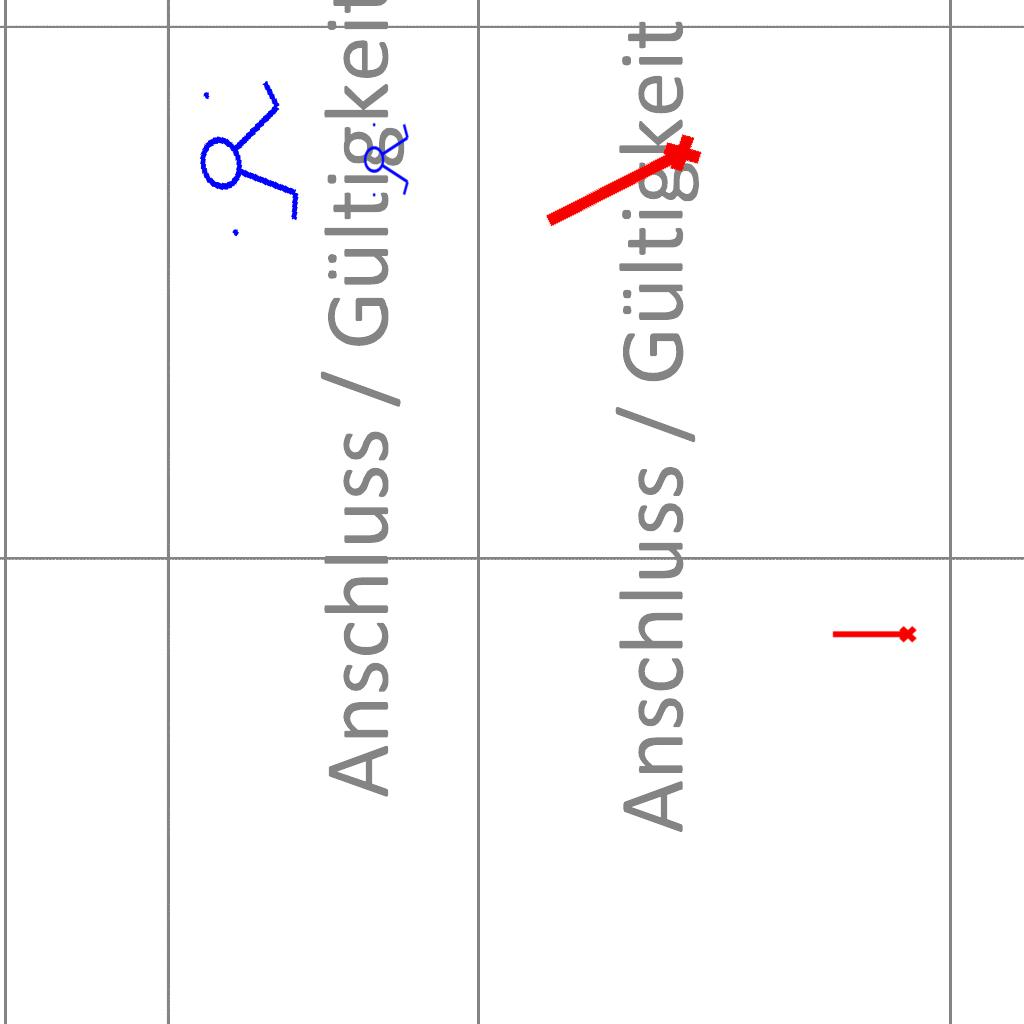ASR_Ansaugoeffnung: (534, 125, 712, 247), (830, 624, 918, 647)
Serienschalter: (181, 64, 311, 250), (363, 117, 411, 201)
